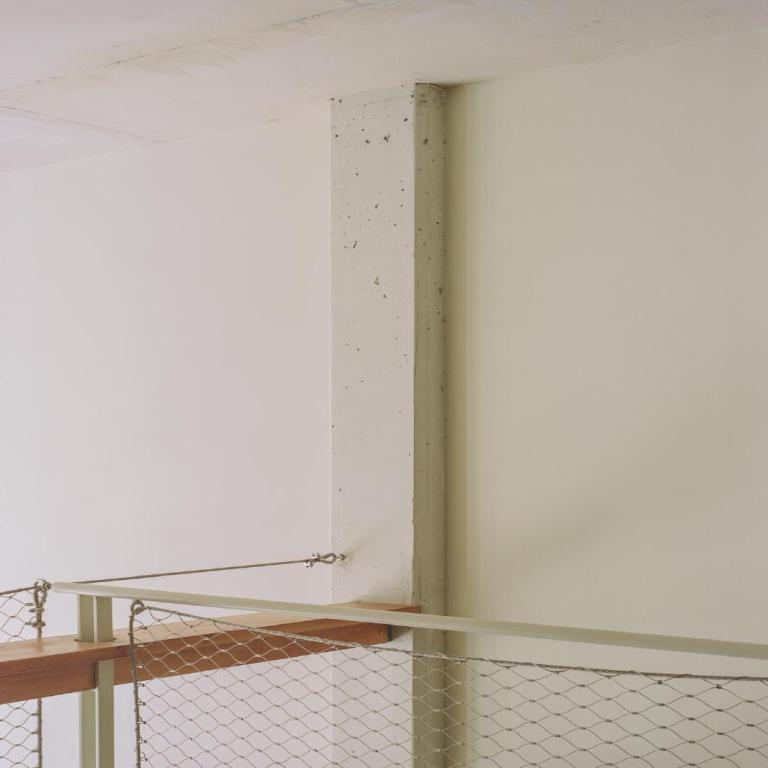white-walls: (23, 151, 277, 559)
